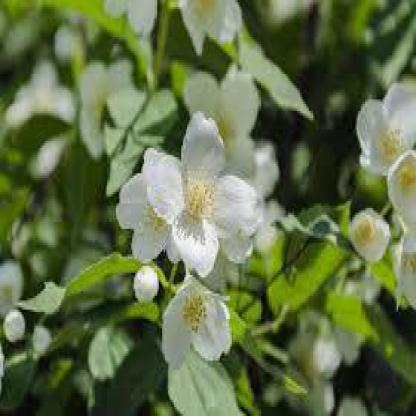Melati: (112, 119, 288, 283), (343, 77, 416, 292), (117, 265, 246, 383)
